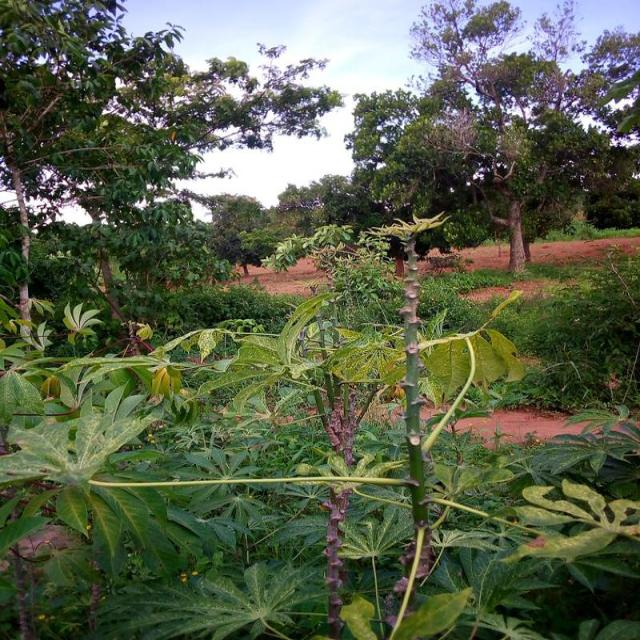cassava leaf: (417, 325, 525, 401)
